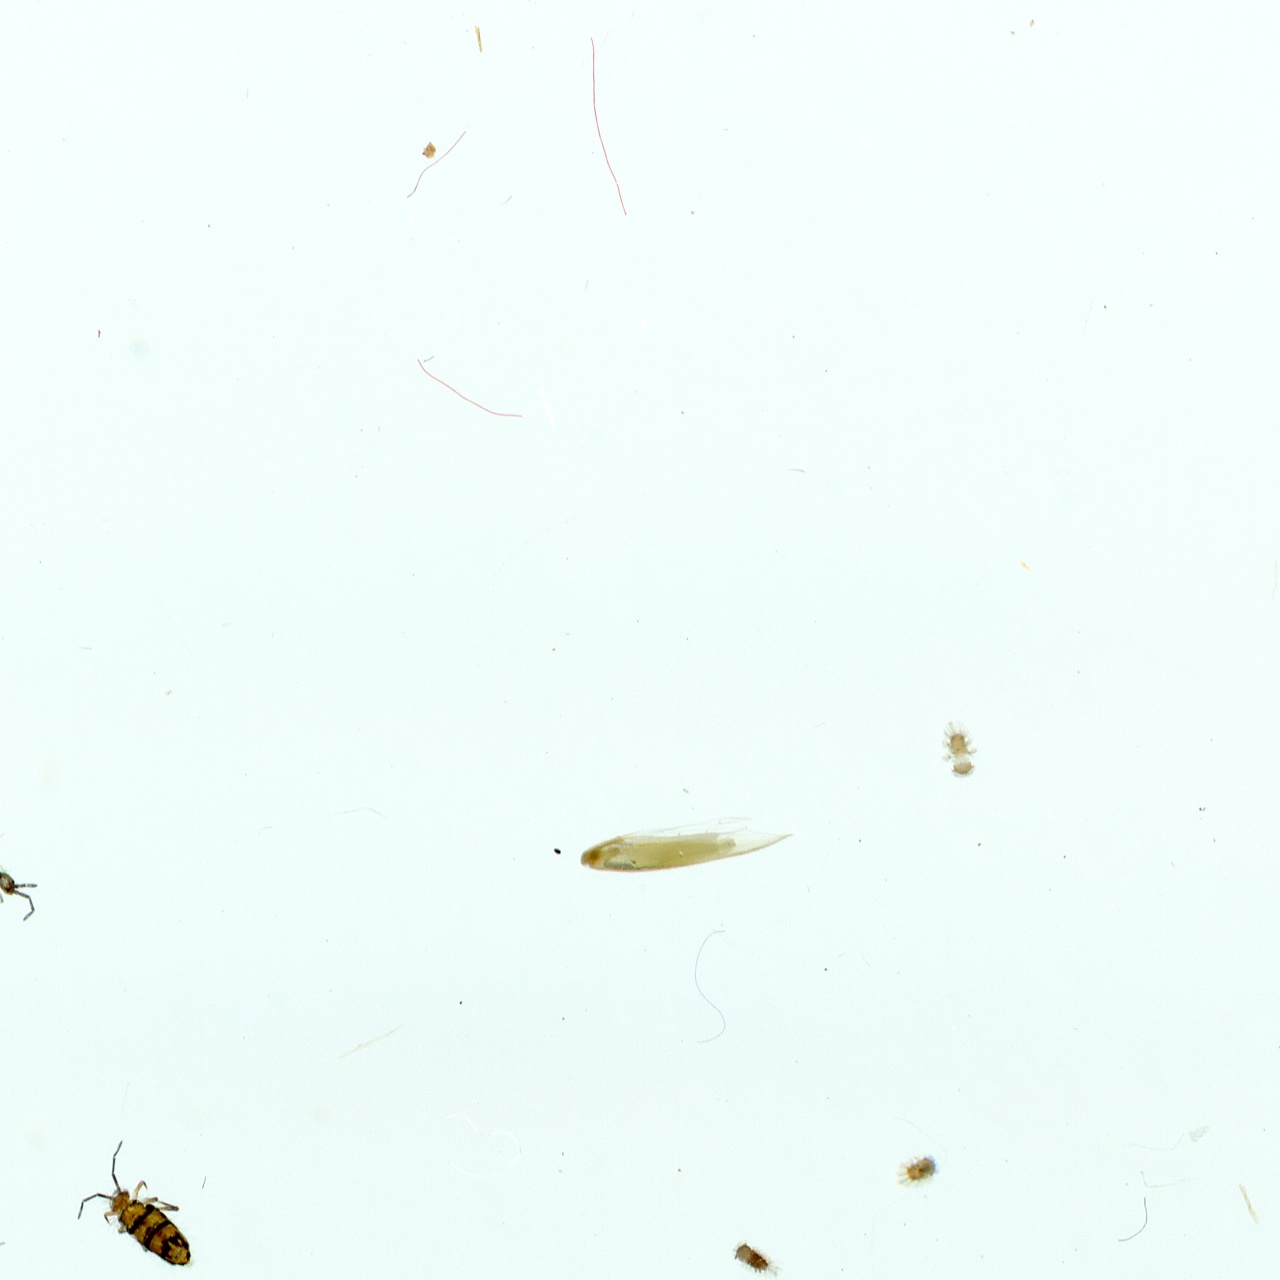arthropod: (79, 1138, 199, 1267), (933, 712, 977, 780), (0, 845, 38, 917), (885, 1142, 937, 1190), (726, 1234, 780, 1280)
